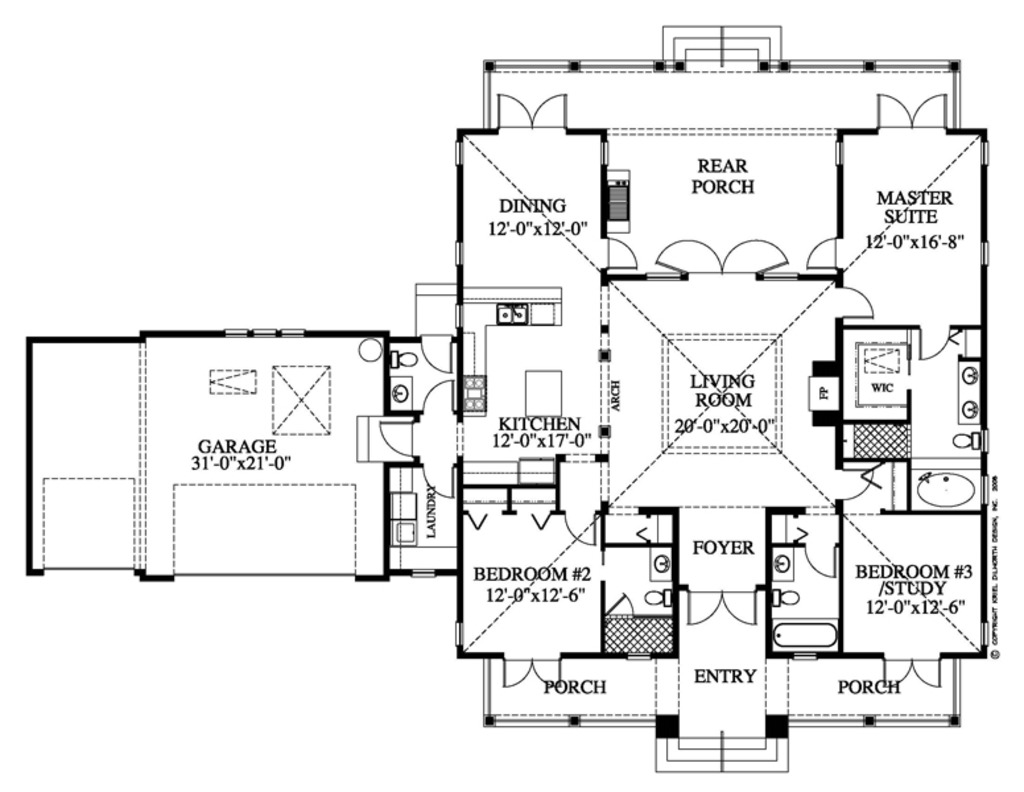door: (653, 236, 791, 282), (678, 585, 763, 628), (874, 90, 950, 135), (494, 92, 569, 133), (498, 653, 564, 691), (882, 651, 942, 687), (830, 281, 878, 323), (378, 415, 419, 459), (420, 456, 460, 498), (915, 323, 951, 367), (803, 235, 841, 270), (804, 539, 836, 580), (423, 336, 457, 374), (420, 379, 455, 415)
large_sink: (768, 583, 807, 613), (640, 580, 676, 611), (385, 347, 420, 377), (947, 426, 981, 452)
small_sink: (957, 359, 982, 427), (385, 373, 414, 415)
stairs: (660, 21, 789, 73), (655, 731, 793, 774)
tub: (905, 470, 983, 510), (767, 619, 841, 654)
windows: (219, 325, 309, 344)
